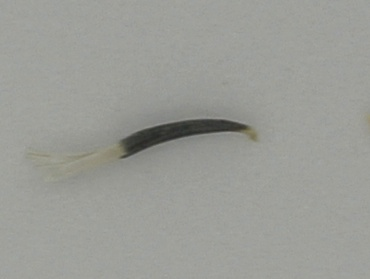เมล็ดดีติดกัน: (27, 112, 261, 187)
